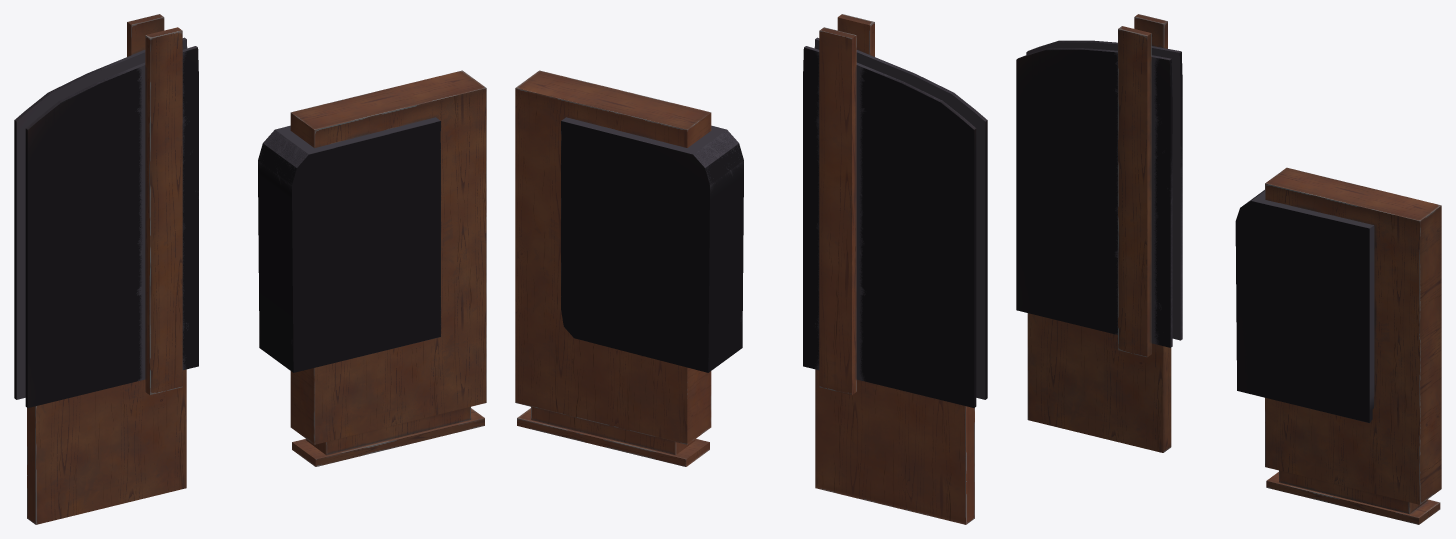
Rendered from Papan.fbx.
The picture shows the model from 3 angles, left to right: view 1: azimuth 30°, elevation 25°; view 2: azimuth 150°, elevation 25°; view 3: azimuth 330°, elevation 25°; orthographic projection. The views are drawn at different scales.
Visible parts, largest first — view 1: Sign 2, Sign 1; view 2: Sign 2, Sign 1; view 3: Sign 2, Sign 1.
Part boxes in pixels (x1,y1,x2,y2): Sign 2: (14, 14, 198, 524); Sign 1: (258, 70, 486, 466); Sign 2: (803, 14, 987, 524); Sign 1: (515, 70, 743, 466); Sign 2: (1016, 14, 1182, 452); Sign 1: (1235, 167, 1441, 524).
Size of the model in its own units: 219 by 28.55 by 216.
Materials: 2 (2 with a texture image).
